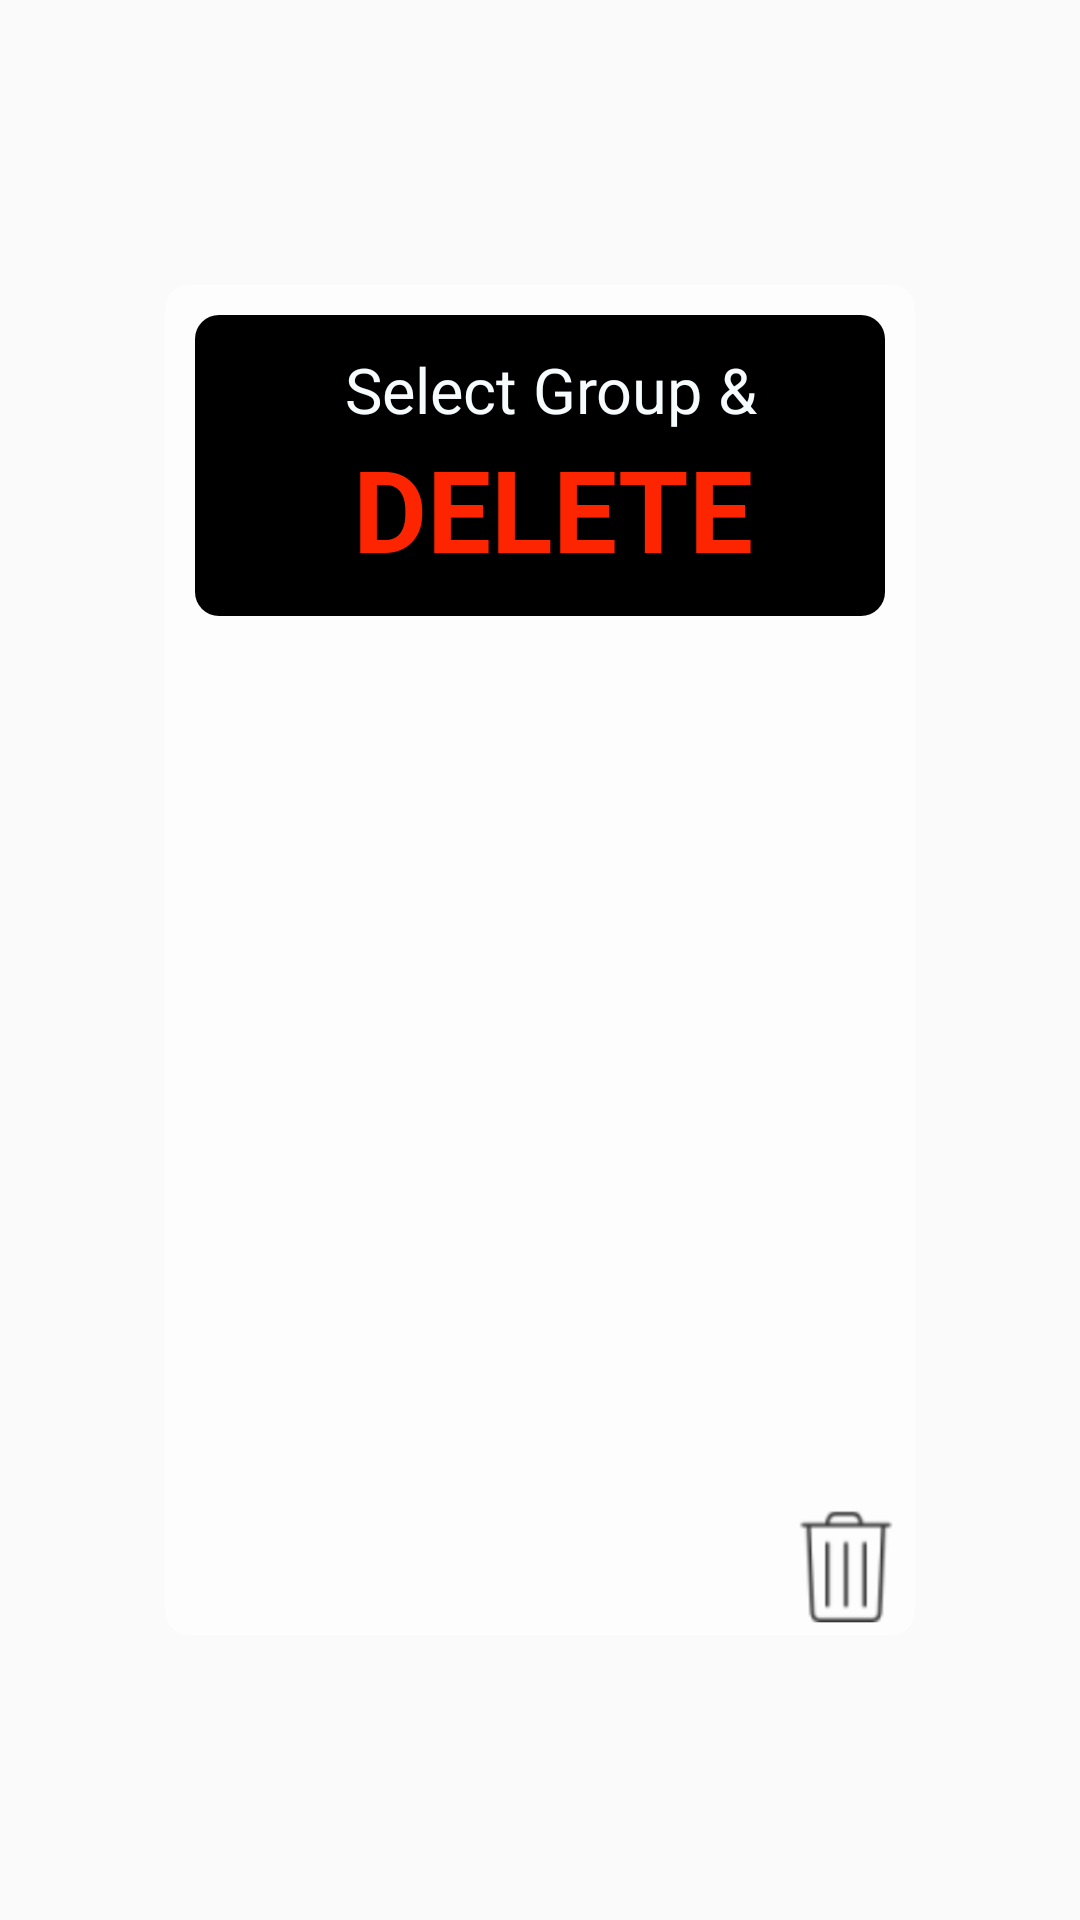

Where icons sit on this 1080x1920 app screen, as rect(x1, y1, x2, y2):
delete: rect(800, 1511, 892, 1623)
